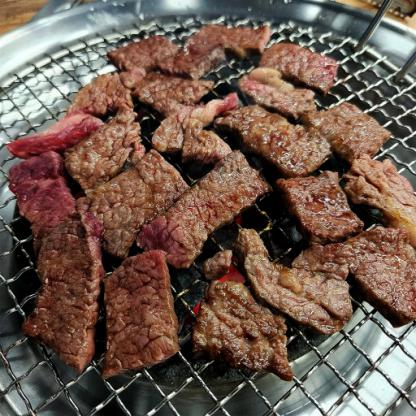Carne: (8, 218, 104, 372), (136, 148, 266, 259), (238, 230, 354, 330), (308, 225, 416, 332), (103, 242, 183, 386), (182, 268, 288, 375), (80, 150, 182, 252), (220, 104, 332, 180), (293, 162, 358, 256), (136, 69, 209, 149), (71, 107, 137, 188), (309, 94, 384, 164), (62, 62, 148, 121), (355, 155, 415, 234), (254, 41, 351, 86), (235, 76, 318, 115), (186, 19, 274, 55), (154, 40, 212, 71)
